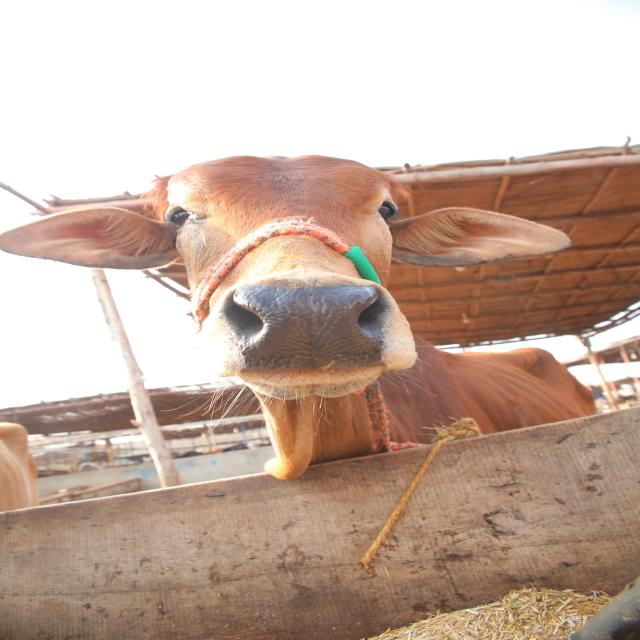muzzles: (210, 278, 393, 376)
